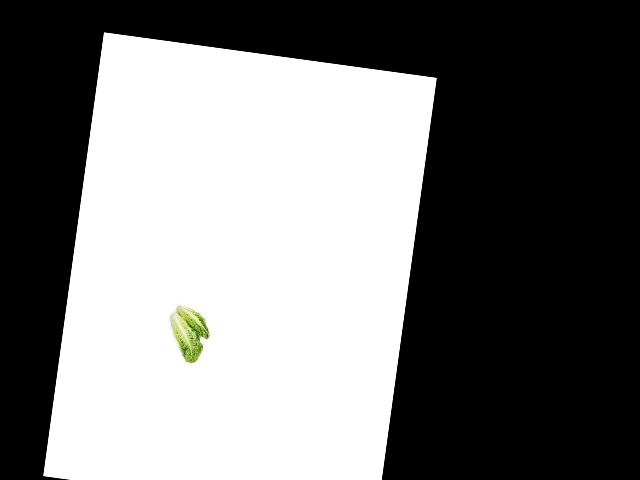lettuce: (162, 314, 208, 364)
